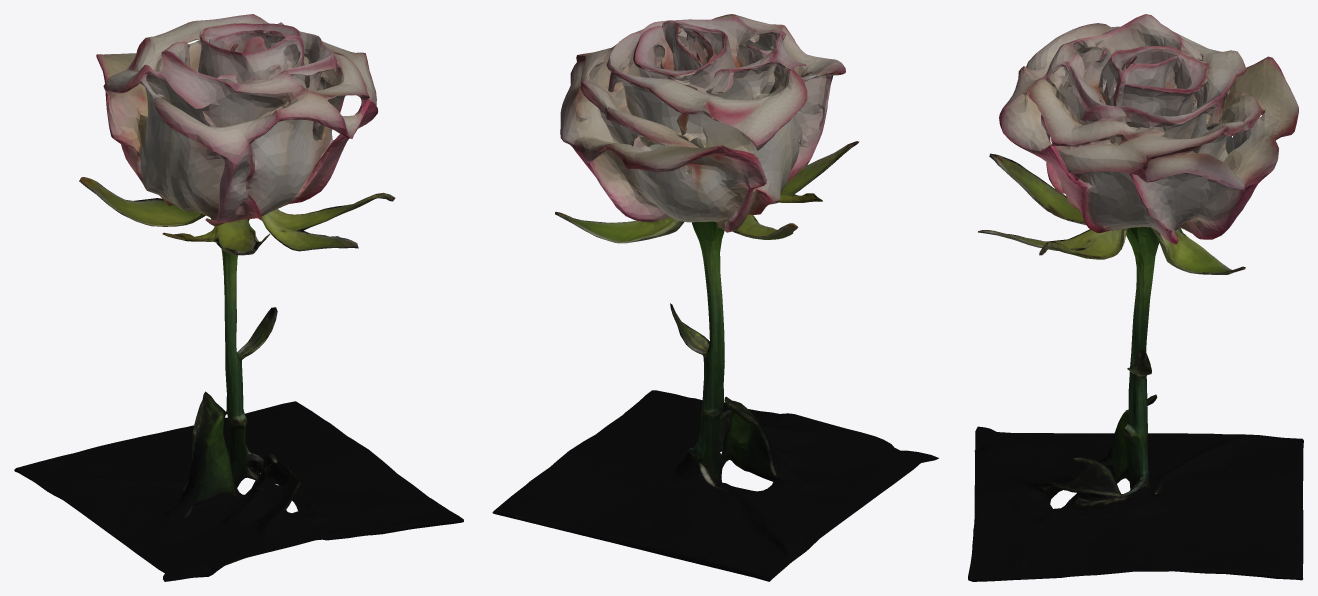
3 views of the same model, side by side, from view 1: azimuth 30°, elevation 25°; view 2: azimuth 150°, elevation 25°; view 3: azimuth 270°, elevation 25° (orthographic). The views are drawn at different scales.
Parts seen in each view (by area): view 1: world; view 2: world; view 3: world.
Part boxes in pixels (left/top/right/bottom): world: left=14, top=14, right=463, bottom=581; world: left=492, top=14, right=938, bottom=581; world: left=968, top=14, right=1303, bottom=581.
Size of the model in its own units: 0.6622 by 0.985 by 0.6442.
1 material, 1 textured.
